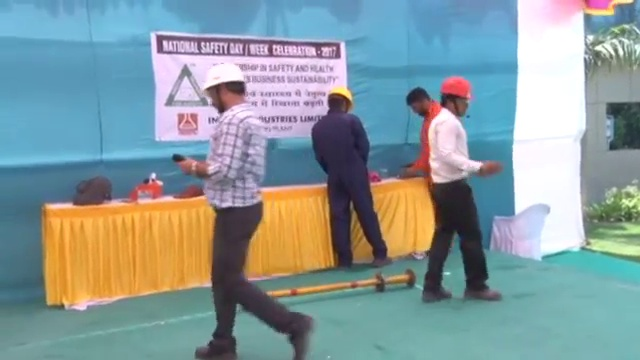helmet: (201, 62, 246, 90), (439, 73, 476, 101), (326, 82, 359, 108)
helmet_off: (406, 86, 434, 118)
helmet_on: (200, 61, 247, 114), (438, 73, 476, 118), (324, 81, 359, 117)
person: (176, 62, 312, 359), (422, 74, 503, 304), (312, 80, 395, 271), (404, 86, 440, 217)
